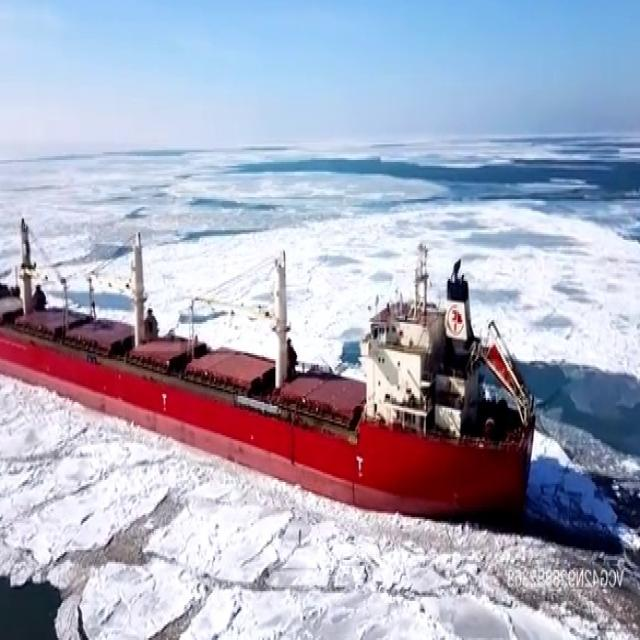cargoship: (0, 224, 539, 522)
